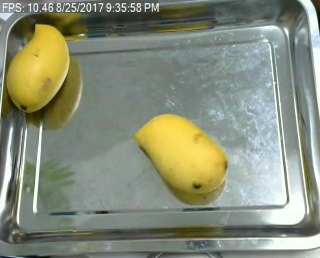Mango: (130, 102, 229, 200), (2, 19, 78, 120)
